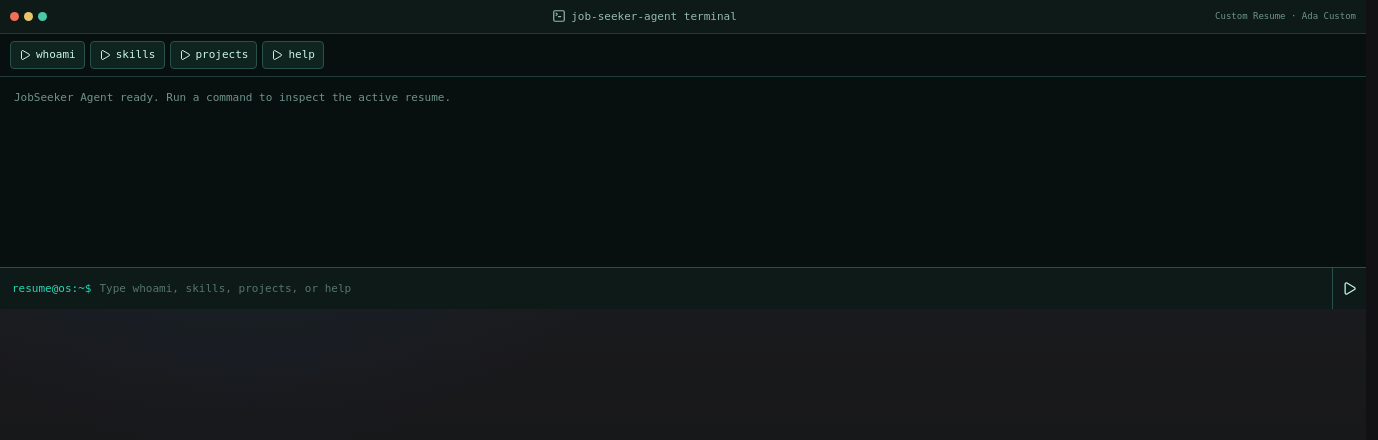
Test case: structured presentation applications › runs Terminal commands from buttons and keyboard using current resume data
The width and height of the screenshot is (1378, 440).
Click the button with aria-label "Run whoami": (47, 55) [10, 41, 85, 69]
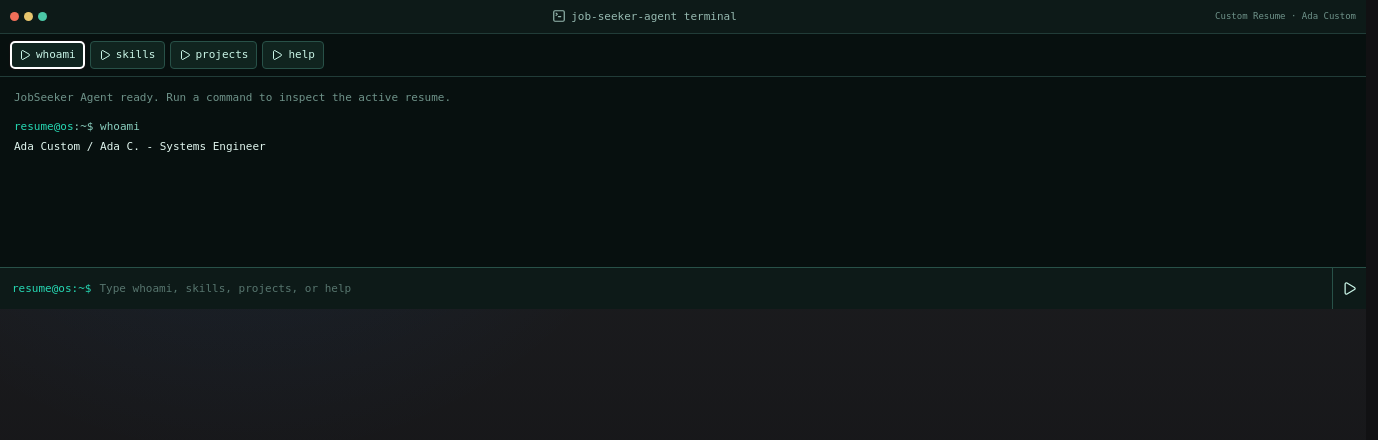
Check: the text "Ada Custom / Ada C. - Systems Engineer" is shown, box [14, 140, 266, 153]
Click the button with aria-label "Run skills": (127, 55) [90, 41, 165, 69]
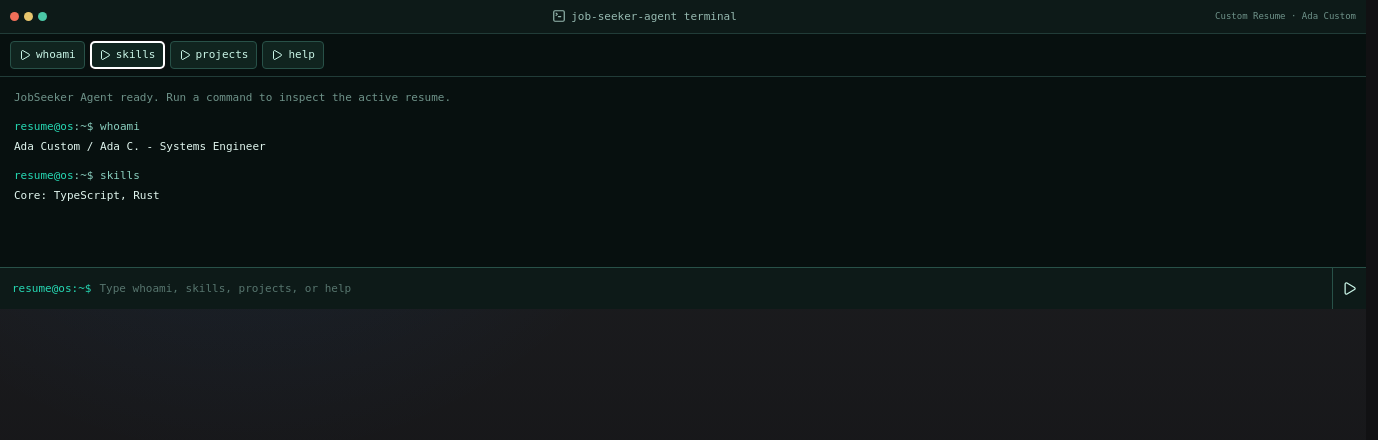
Check: the text "Core: TypeScript, Rust" is shown, box [14, 189, 160, 202]
In the field named "Terminal command": (712, 288) [92, 268, 1332, 309], type "projects"
Then press Enter
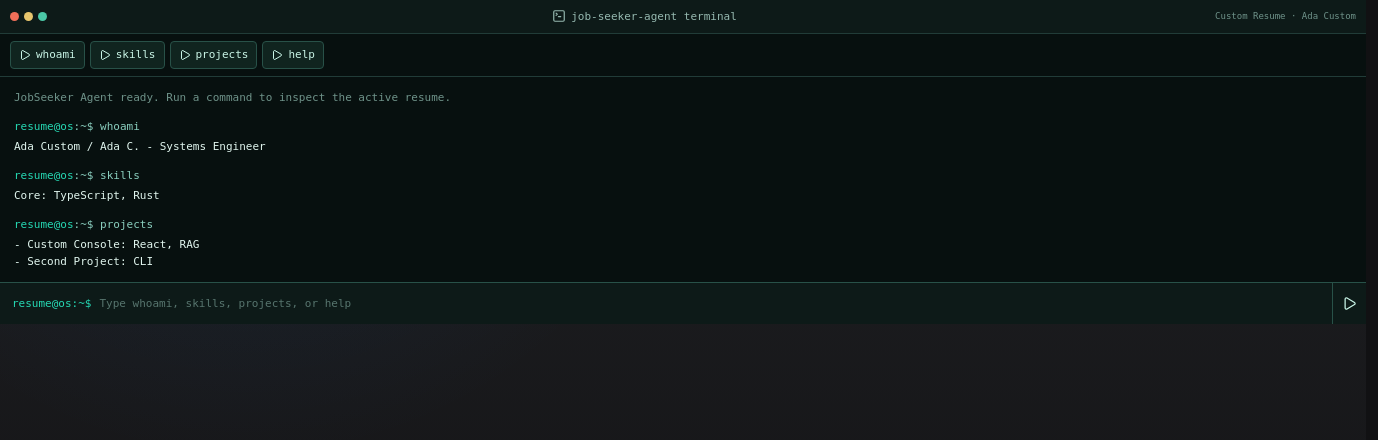
Check: the text "- Custom Console: React, RAG" is shown, box [14, 238, 199, 251]
In the field named "Terminal command": (712, 304) [92, 283, 1332, 324], type "help"
Then press Enter
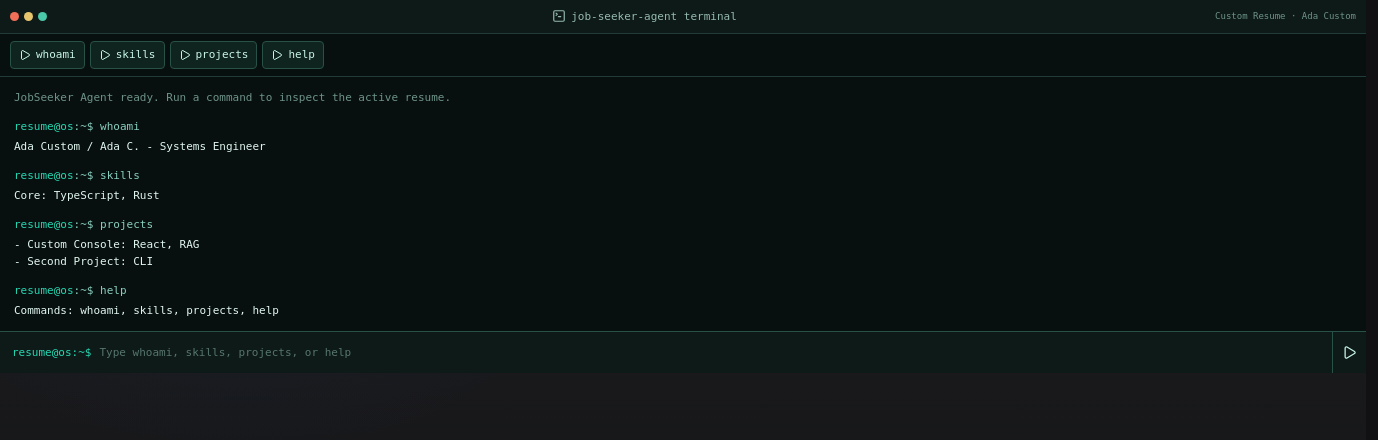
Check: the text "Commands: whoami, skills, projects, help" is shown, box [14, 304, 279, 317]
In the field named "Terminal command": (712, 353) [92, 332, 1332, 374], type "deploy"
Then press Enter
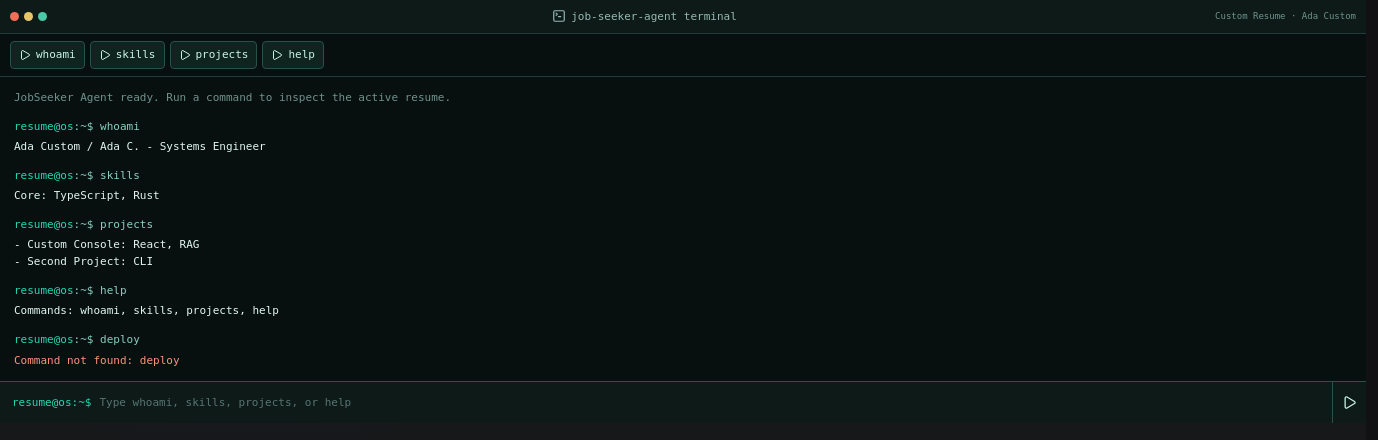
Check: the text "Command not found: deploy" is shown, box [14, 354, 180, 366]
